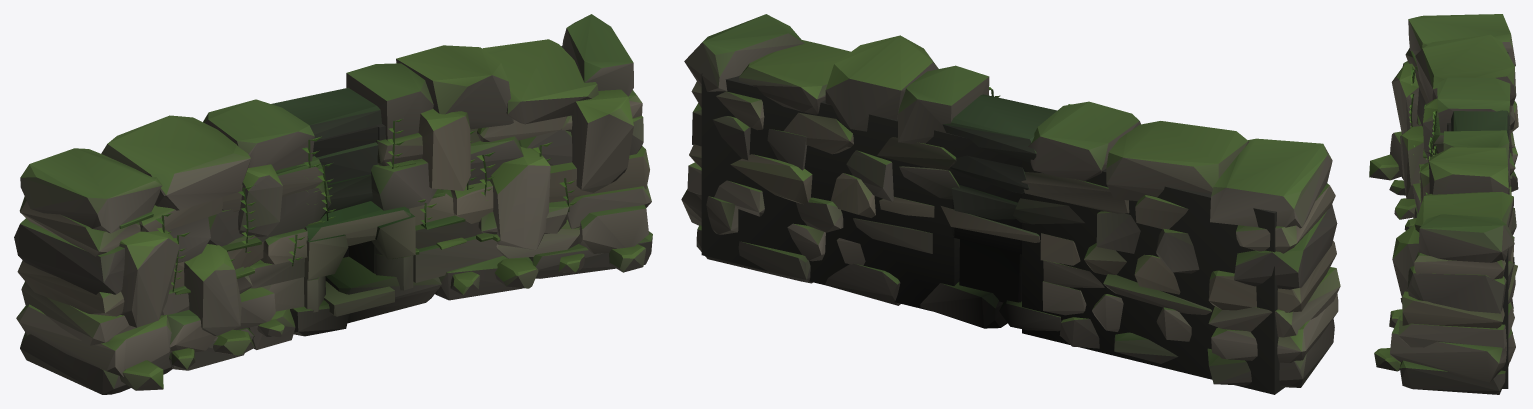
File: cave-cliff.glb
The picture shows the model from 3 angles, left to right: view 1: azimuth 30°, elevation 25°; view 2: azimuth 150°, elevation 25°; view 3: azimuth 270°, elevation 25°; orthographic projection. The views are drawn at different scales.
Visible parts, largest first — view 1: cliff, cave_floor; view 2: cliff; view 3: cliff.
Part boxes in pixels (<box>): cliff: <box>14,14,652,394</box>; cave_floor: <box>324,281,394,316</box>; cliff: <box>681,14,1340,394</box>; cliff: <box>1369,14,1518,394</box>.
Size of what is drawn, in the model's own units: 32.93 by 11.49 by 8.79.
